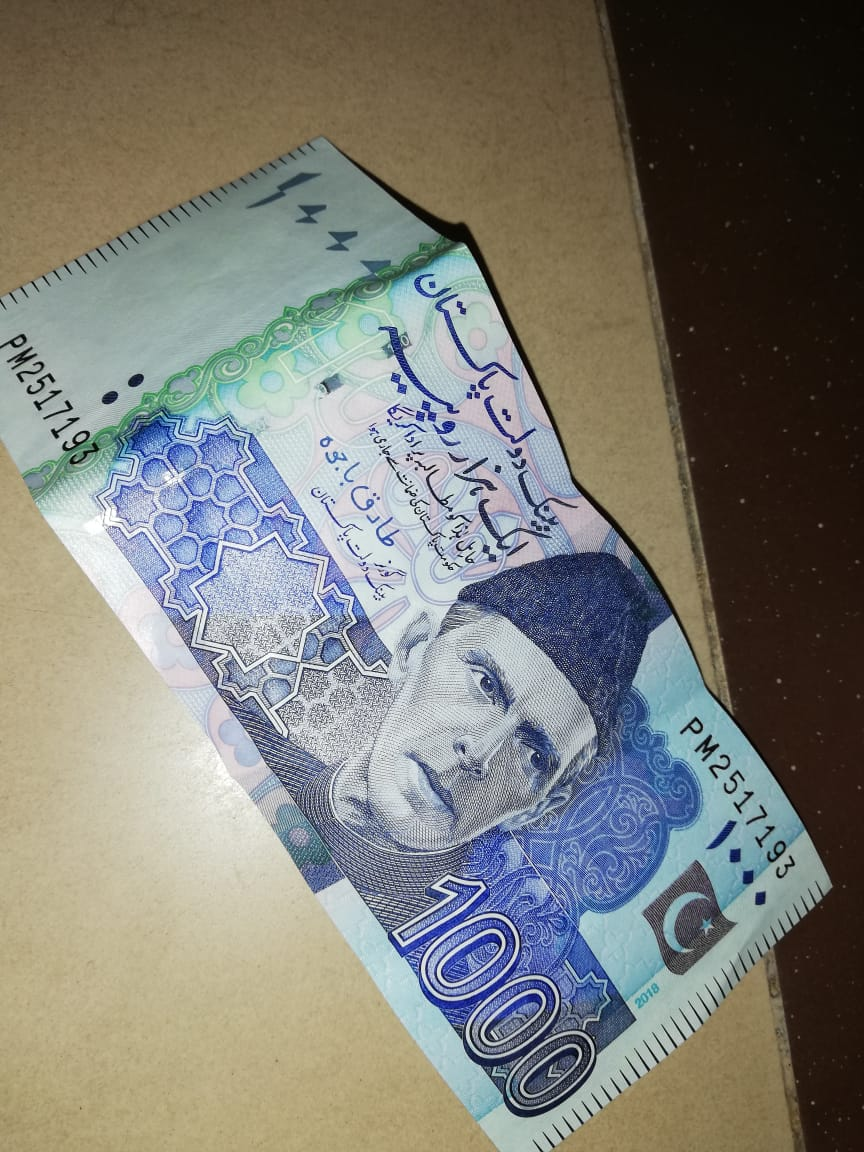1000 rupee: (20, 142, 827, 1125)
